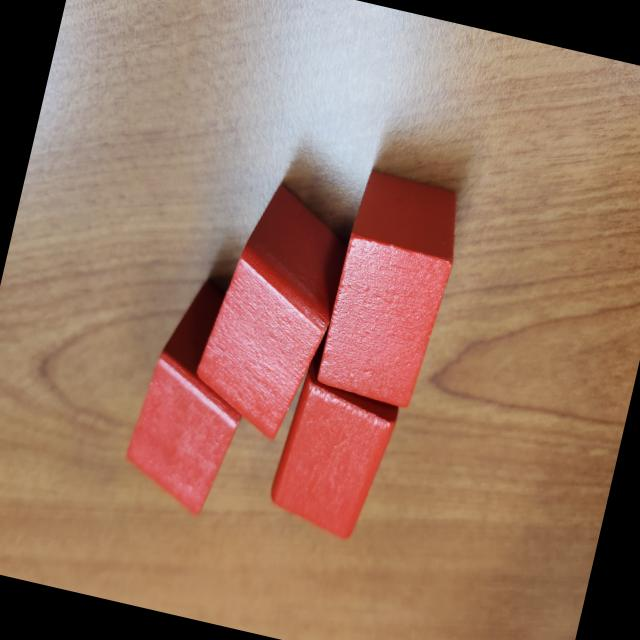red: (184, 172, 358, 448), (115, 270, 278, 526), (311, 167, 469, 413), (263, 342, 412, 548)
